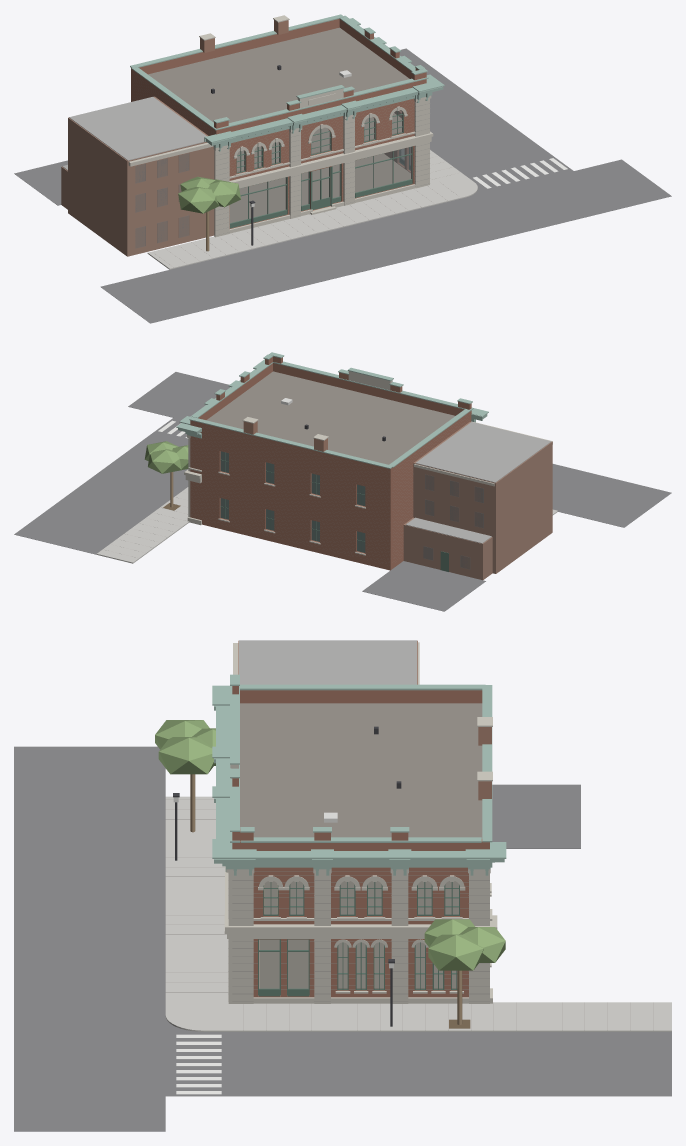
File: clay-halifax-waterfront-warehouse-clay-v004.glb
3 renders of one model, top to bottom at view 1: azimuth 30°, elevation 25°; view 2: azimuth 150°, elevation 25°; view 3: azimuth 270°, elevation 25°, orthographic. The views are drawn at different scales.
Visible parts, largest first — view 1: CLAY_ASPHALT, CLAY_NEIGHBOUR, CLAY_ROOF, CLAY_WALL, CLAY_STONE, CLAY_CONCRETE, CLAY_GLASS, CLAY_COPPER, CLAY_FLOOR, CLAY_MEMBRANE, CLAY_FRAME, CLAY_PLANTING (+2 smaller); view 2: CLAY_WALL, CLAY_ASPHALT, CLAY_NEIGHBOUR, CLAY_ROOF, CLAY_MEMBRANE, CLAY_COPPER, CLAY_CONCRETE, CLAY_GLASS, CLAY_STONE, CLAY_FRAME, CLAY_PLANTING; view 3: CLAY_ASPHALT, CLAY_ROOF, CLAY_CONCRETE, CLAY_WALL, CLAY_STONE, CLAY_COPPER, CLAY_MEMBRANE, CLAY_GLASS, CLAY_FLOOR, CLAY_PLANTING, CLAY_FRAME, CLAY_JOINT (+2 smaller).
Boxes of the visible parts, x1=… form: CLAY_ASPHALT: x1=14, y1=48, x2=671, y2=323; CLAY_NEIGHBOUR: x1=61, y1=96, x2=214, y2=256; CLAY_ROOF: x1=148, y1=27, x2=409, y2=122; CLAY_WALL: x1=131, y1=19, x2=426, y2=228; CLAY_STONE: x1=128, y1=15, x2=433, y2=237; CLAY_CONCRETE: x1=147, y1=149, x2=477, y2=269; CLAY_GLASS: x1=135, y1=110, x2=411, y2=248; CLAY_COPPER: x1=130, y1=14, x2=444, y2=151; CLAY_FLOOR: x1=230, y1=113, x2=410, y2=222; CLAY_MEMBRANE: x1=62, y1=97, x2=206, y2=170; CLAY_FRAME: x1=230, y1=111, x2=412, y2=228; CLAY_PLANTING: x1=178, y1=176, x2=240, y2=213; CLAY_WALL: x1=190, y1=356, x2=471, y2=570; CLAY_ASPHALT: x1=14, y1=372, x2=671, y2=611; CLAY_NEIGHBOUR: x1=403, y1=422, x2=552, y2=580; CLAY_ROOF: x1=206, y1=371, x2=454, y2=464; CLAY_MEMBRANE: x1=406, y1=422, x2=551, y2=543; CLAY_COPPER: x1=176, y1=352, x2=488, y2=468; CLAY_CONCRETE: x1=96, y1=487, x2=557, y2=563; CLAY_GLASS: x1=220, y1=451, x2=483, y2=569; CLAY_STONE: x1=184, y1=371, x2=552, y2=555; CLAY_FRAME: x1=220, y1=451, x2=448, y2=571; CLAY_PLANTING: x1=144, y1=441, x2=188, y2=473; CLAY_ASPHALT: x1=14, y1=746, x2=671, y2=1131; CLAY_ROOF: x1=240, y1=703, x2=482, y2=838; CLAY_CONCRETE: x1=165, y1=796, x2=671, y2=1031; CLAY_WALL: x1=232, y1=686, x2=489, y2=997; CLAY_STONE: x1=224, y1=642, x2=497, y2=1003; CLAY_COPPER: x1=212, y1=674, x2=506, y2=875; CLAY_MEMBRANE: x1=239, y1=640, x2=416, y2=684; CLAY_GLASS: x1=259, y1=881, x2=458, y2=988; CLAY_FLOOR: x1=259, y1=881, x2=458, y2=988; CLAY_PLANTING: x1=155, y1=720, x2=505, y2=970; CLAY_FRAME: x1=258, y1=882, x2=459, y2=996; CLAY_JOINT: x1=166, y1=799, x2=653, y2=1030.
Size of the model in its own units: 60 by 13.3 by 43.4.
